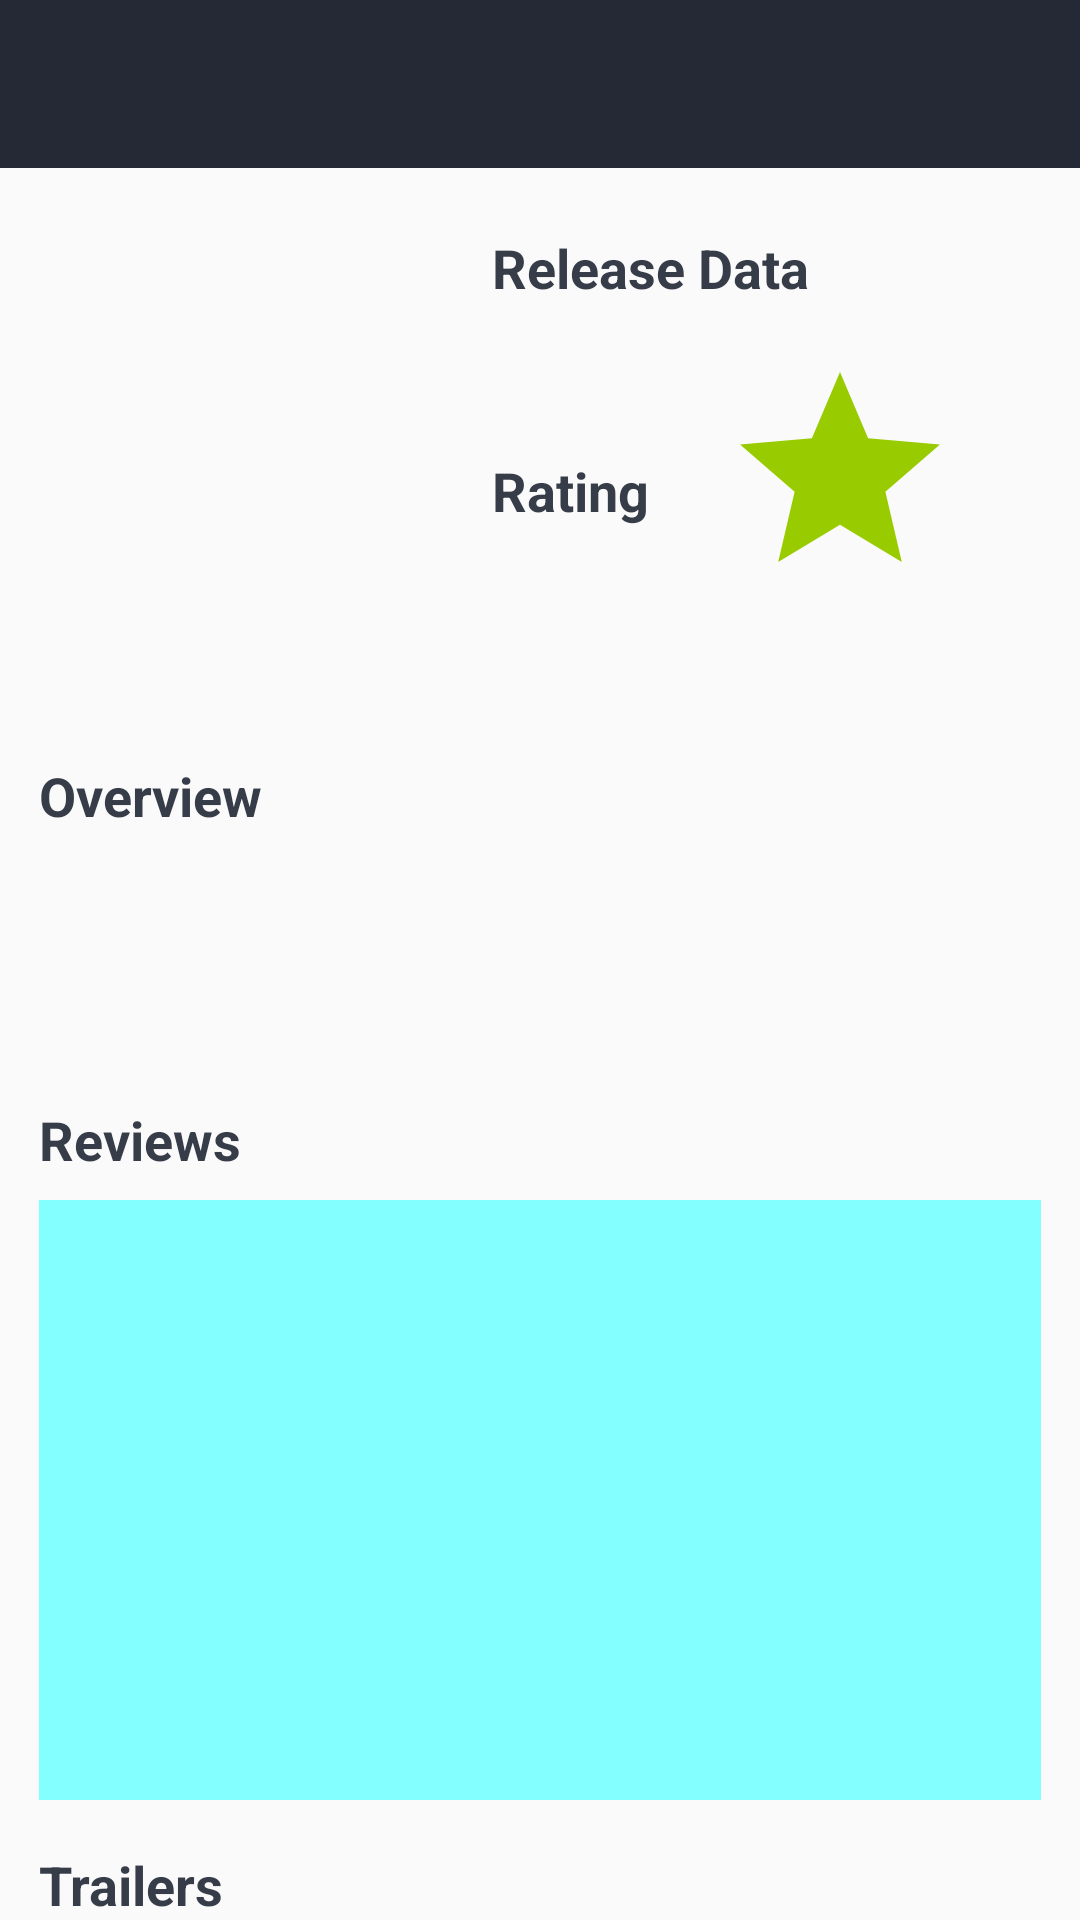

Icon bounding boxes for this 1080*1920 phone screenshot, format (x1, y1, x2, y2):
star: (740, 372, 940, 562)
